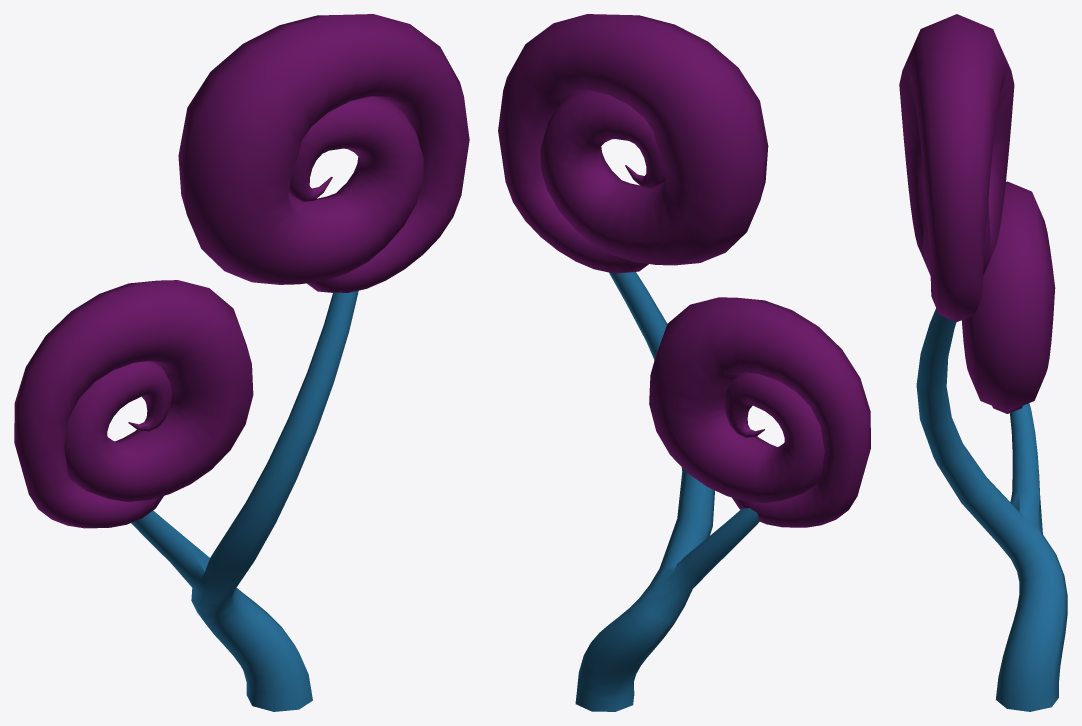
Rendered from Tree_Swirl_1-transformed.glb.
The picture shows the model from 3 angles, left to right: view 1: azimuth 30°, elevation 25°; view 2: azimuth 150°, elevation 25°; view 3: azimuth 270°, elevation 25°; orthographic projection. The views are drawn at different scales.
Visible parts, largest first — view 1: Tree_Swirl_1; view 2: Tree_Swirl_1; view 3: Tree_Swirl_1.
Part boxes in pixels (x1,y1,x2,y2): Tree_Swirl_1: (14, 14, 469, 711); Tree_Swirl_1: (498, 14, 870, 711); Tree_Swirl_1: (899, 14, 1067, 711).
Size of the model in its own units: 4.61 by 7.35 by 1.68.
1 material, 1 textured.
